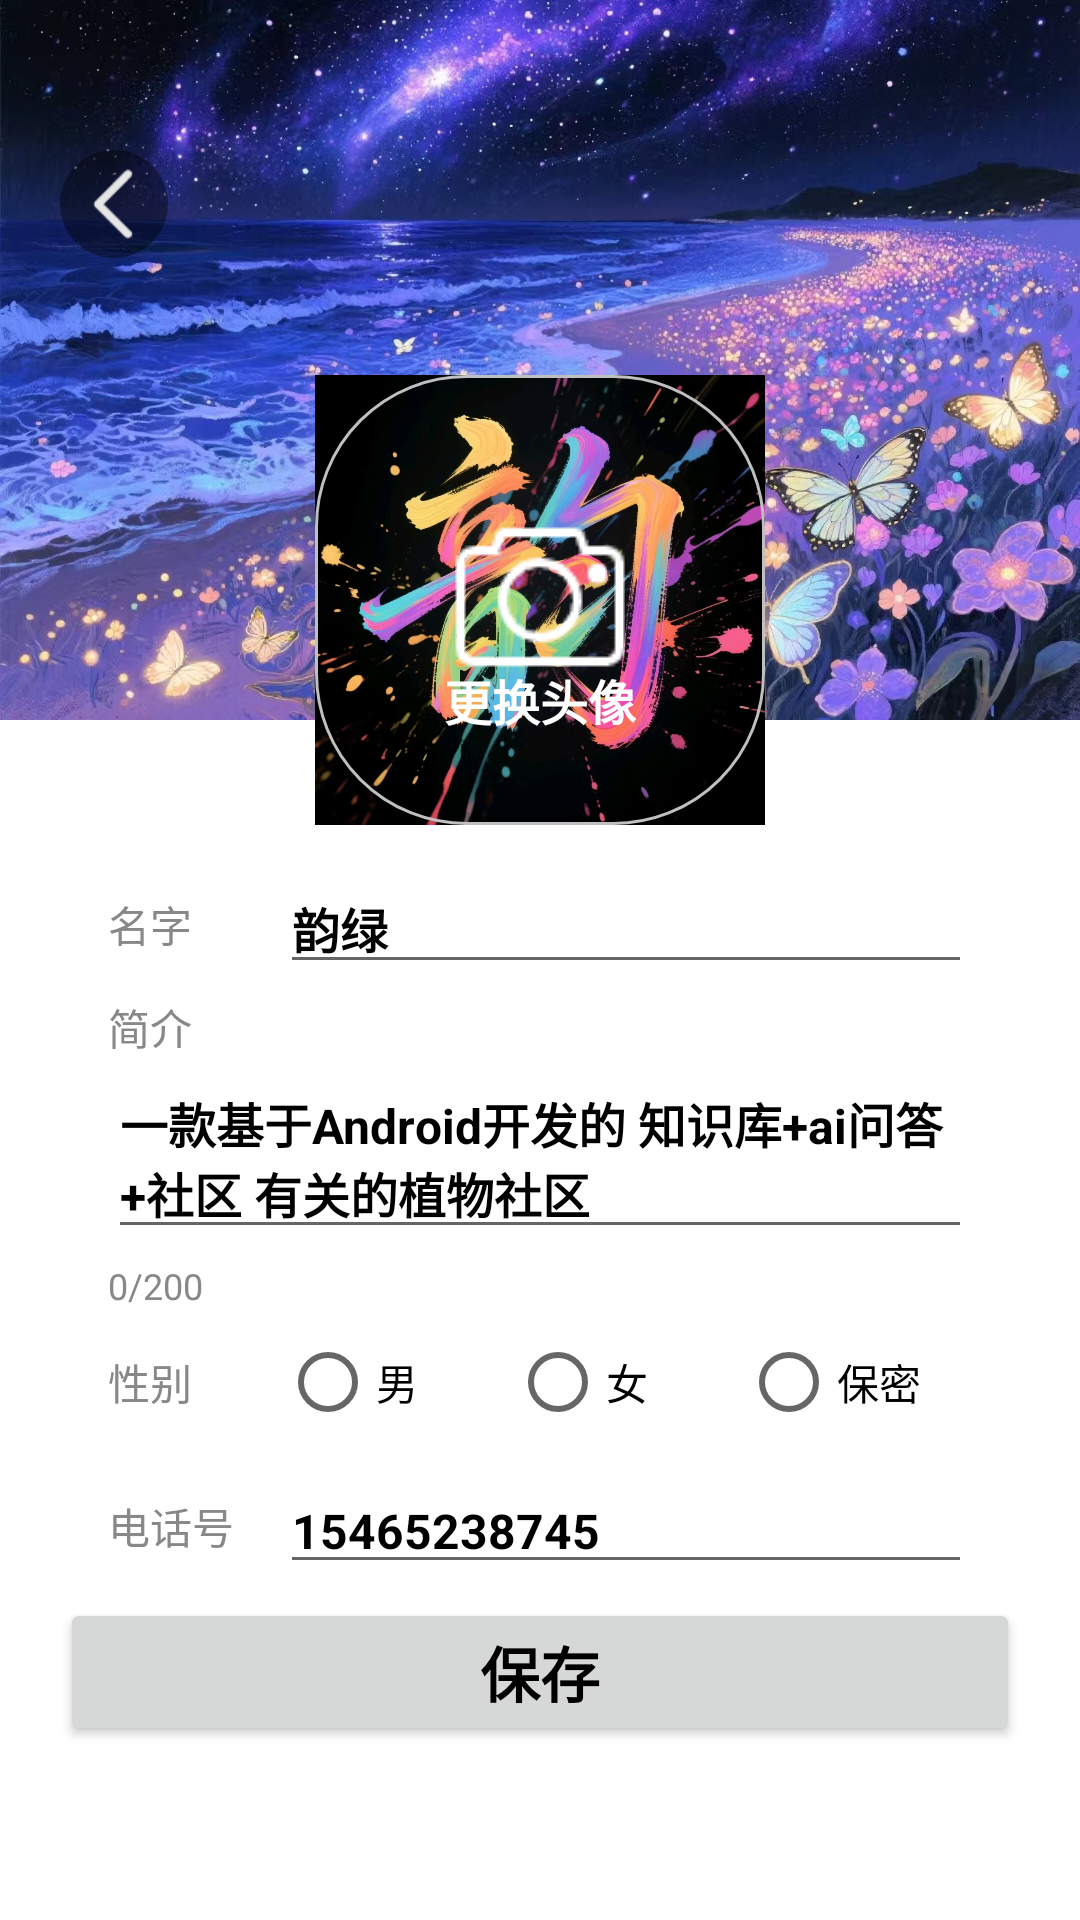

Named icons in this screenshot (1080×1920) and their centers, (x=x, y=y):
back: (x=114, y=204)
